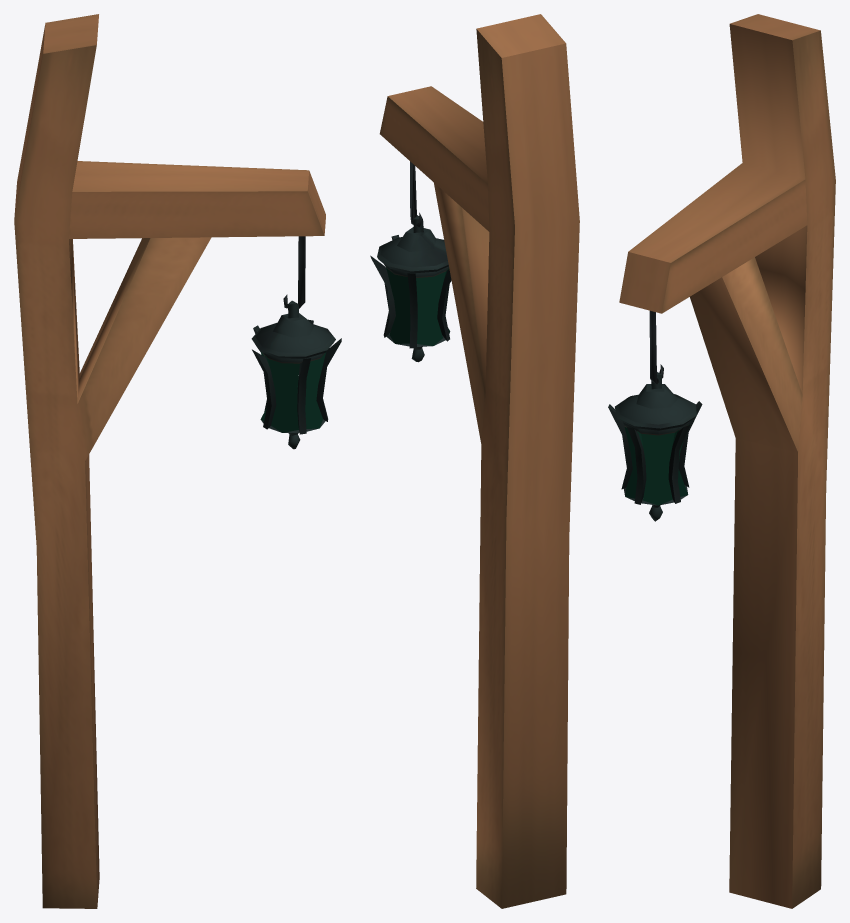
The model's file is Lantern.fbx.
3 views of the same model, side by side, from view 1: azimuth 30°, elevation 25°; view 2: azimuth 150°, elevation 25°; view 3: azimuth 270°, elevation 25° (orthographic).
Visible parts, largest first — view 1: Lantern; view 2: Lantern; view 3: Lantern.
Part boxes in pixels (bbox=[...]): Lantern: bbox=[14, 14, 341, 908]; Lantern: bbox=[370, 14, 579, 908]; Lantern: bbox=[608, 14, 835, 908].
Size of the model in its own units: 86.03 by 275 by 65.37.
